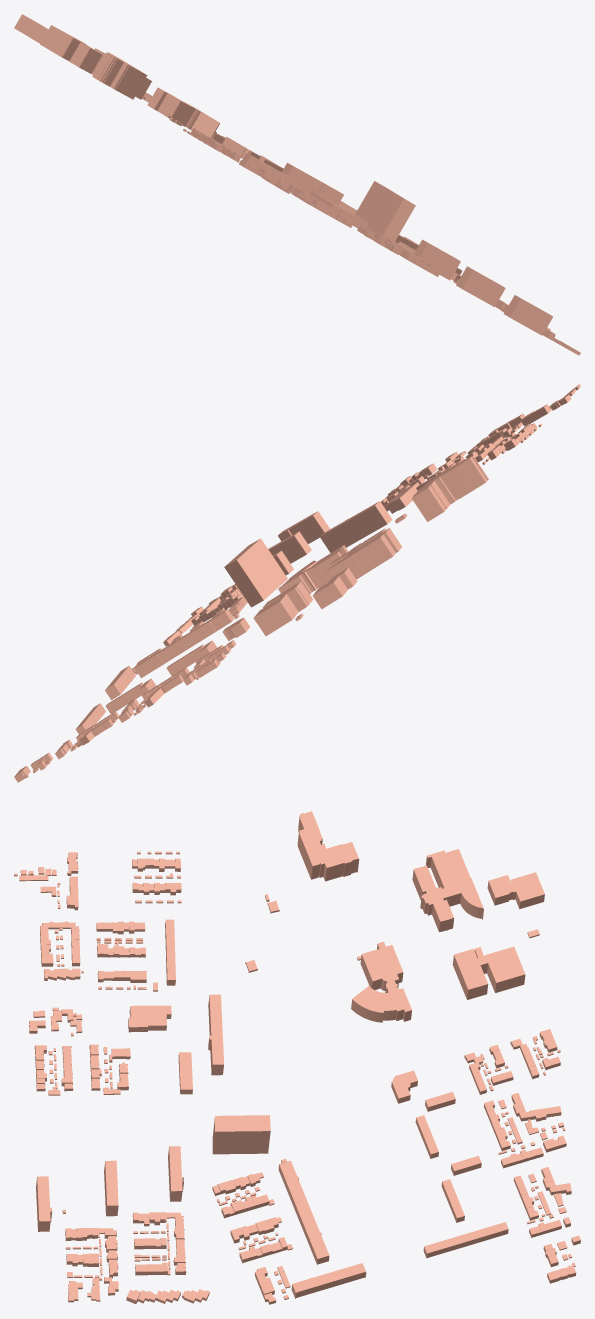
3 views of the same model, one above another, from view 1: azimuth 30°, elevation 25°; view 2: azimuth 150°, elevation 25°; view 3: azimuth 270°, elevation 25° (orthographic). The views are drawn at different scales.
Size of the model in its own units: 503 by 400 by 644.
